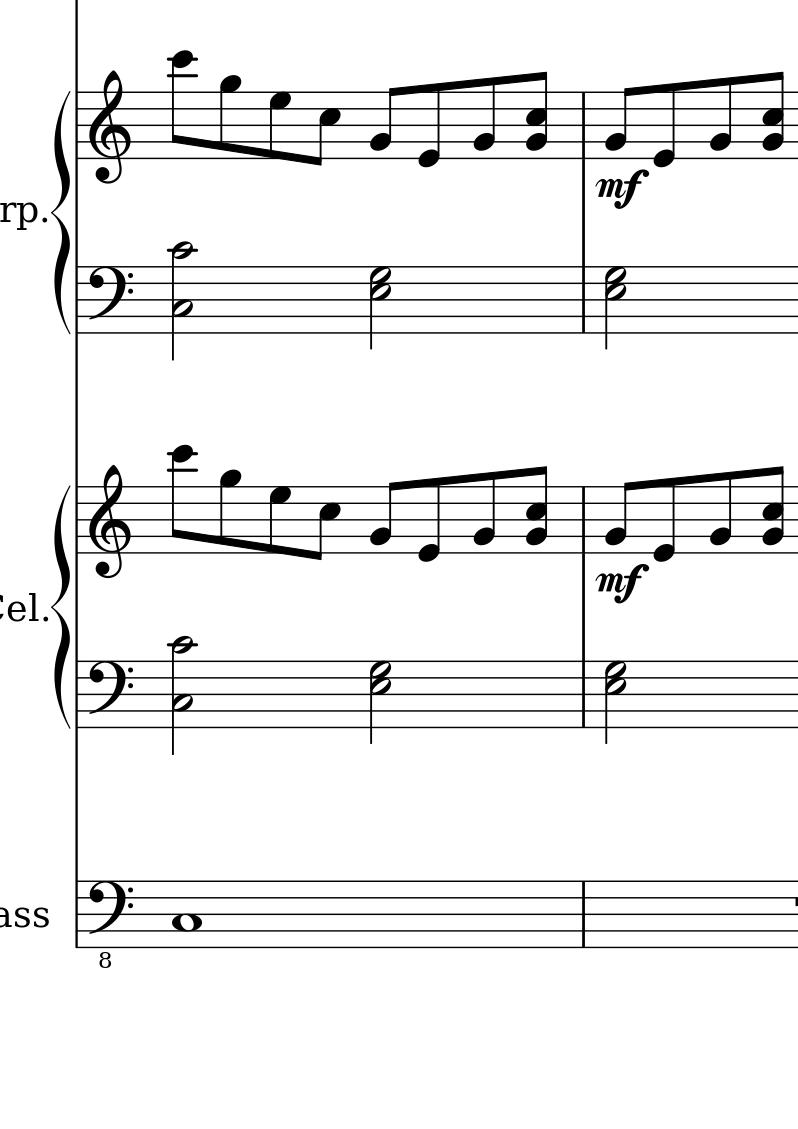1_3: (171, 878, 202, 950)
2_3_10: (164, 241, 200, 362), (166, 634, 198, 754)
2_5_7: (368, 264, 394, 350), (368, 659, 393, 745), (604, 264, 628, 352), (603, 659, 627, 746)
8_0: (650, 80, 679, 169), (650, 475, 679, 564), (415, 475, 443, 566), (415, 81, 443, 171)
8_12: (168, 48, 196, 160), (168, 443, 196, 555)
8_2: (706, 75, 735, 161), (706, 470, 735, 556), (601, 86, 635, 159), (602, 480, 635, 554), (470, 76, 498, 162), (470, 470, 498, 556), (368, 480, 399, 555), (368, 86, 399, 160)
8_2_5: (524, 70, 550, 161), (523, 464, 548, 557), (760, 70, 786, 158), (762, 464, 786, 557)
8_5: (310, 484, 342, 562), (311, 90, 342, 168)
8_7: (267, 90, 292, 162), (267, 484, 292, 556)
8_9: (218, 74, 242, 160), (218, 469, 242, 555)
Brace: (48, 88, 74, 338), (49, 484, 74, 730)
Fclef: (85, 264, 133, 335), (85, 659, 133, 730)
Gclef: (87, 69, 133, 185), (87, 464, 133, 580)
Lower_Fclef: (85, 878, 134, 969)
Single_barline: (576, 91, 593, 157), (576, 486, 593, 552), (71, 91, 86, 160), (576, 266, 591, 333), (576, 660, 591, 727), (576, 881, 591, 946), (71, 486, 85, 554), (70, 881, 84, 947), (72, 267, 84, 333), (72, 662, 84, 727)
mf: (592, 562, 649, 604), (593, 167, 649, 209)
